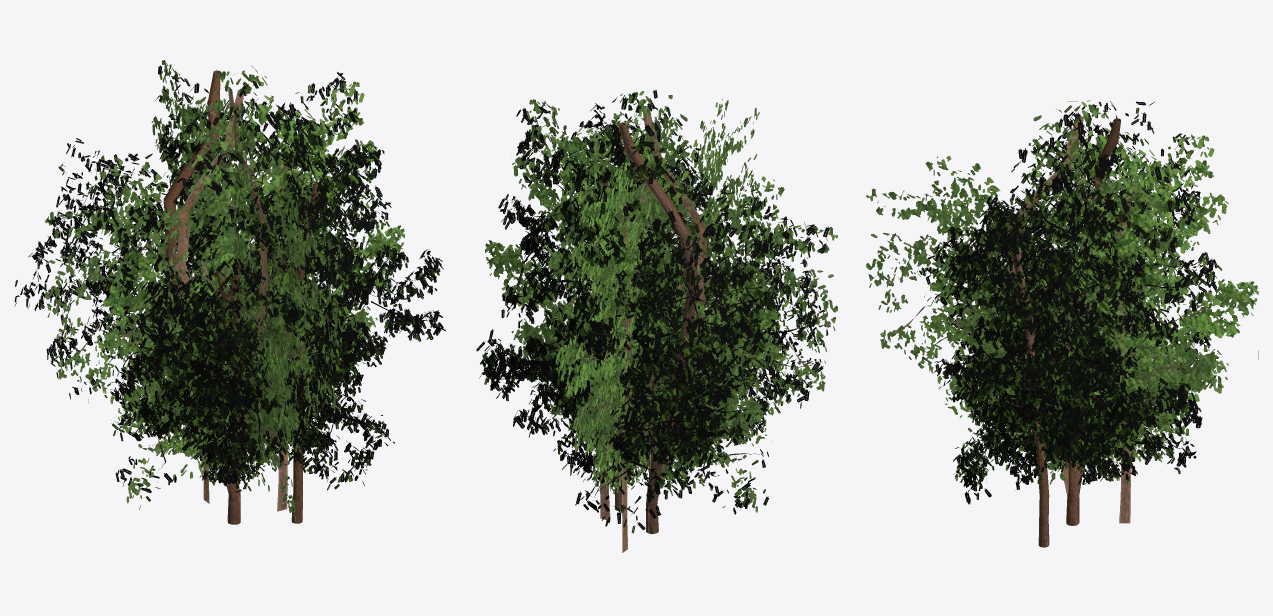
Rendered from robinia.glb.
3 renders of one model, left to right at view 1: azimuth 30°, elevation 25°; view 2: azimuth 150°, elevation 25°; view 3: azimuth 270°, elevation 25°, orthographic. The views are drawn at different scales.
Parts seen in each view (by area): view 1: robinia_d_BB, robinia_d_LOD0, robinia_b_LOD0, robinia_c_LOD0, robinia_b_BB, robinia_a_LOD0, robinia_a_BB, robinia_c_BB; view 2: robinia_d_LOD0, robinia_d_BB, robinia_b_BB, robinia_a_LOD0, robinia_c_LOD0, robinia_b_LOD0, robinia_a_BB, robinia_c_BB; view 3: robinia_d_LOD0, robinia_b_LOD0, robinia_d_BB, robinia_b_BB, robinia_c_LOD0, robinia_a_LOD0, robinia_a_BB, robinia_c_BB.
Part boxes in pixels (x1,y1,x2,y2): robinia_d_BB: (45, 60, 377, 521); robinia_d_LOD0: (14, 65, 392, 524); robinia_b_LOD0: (181, 141, 445, 523); robinia_c_LOD0: (128, 203, 357, 492); robinia_b_BB: (135, 99, 404, 511); robinia_a_LOD0: (128, 220, 366, 475); robinia_a_BB: (137, 222, 349, 461); robinia_c_BB: (123, 226, 338, 465); robinia_d_LOD0: (476, 90, 835, 534); robinia_d_BB: (511, 91, 837, 533); robinia_b_BB: (485, 134, 729, 552); robinia_a_LOD0: (535, 244, 768, 483); robinia_c_LOD0: (533, 253, 779, 487); robinia_b_LOD0: (511, 103, 787, 511); robinia_a_BB: (529, 244, 746, 492); robinia_c_BB: (549, 232, 760, 487); robinia_d_LOD0: (938, 100, 1222, 525); robinia_b_LOD0: (919, 188, 1150, 547); robinia_d_BB: (866, 101, 1228, 522); robinia_b_BB: (981, 164, 1258, 523); robinia_c_LOD0: (968, 234, 1158, 491); robinia_a_LOD0: (997, 248, 1165, 490); robinia_a_BB: (966, 244, 1209, 469); robinia_c_BB: (952, 243, 1185, 470).
Size of what is drawn, in the model's own units: 8.39 by 9.97 by 8.39.
Materials: 6 (6 with a texture image).
